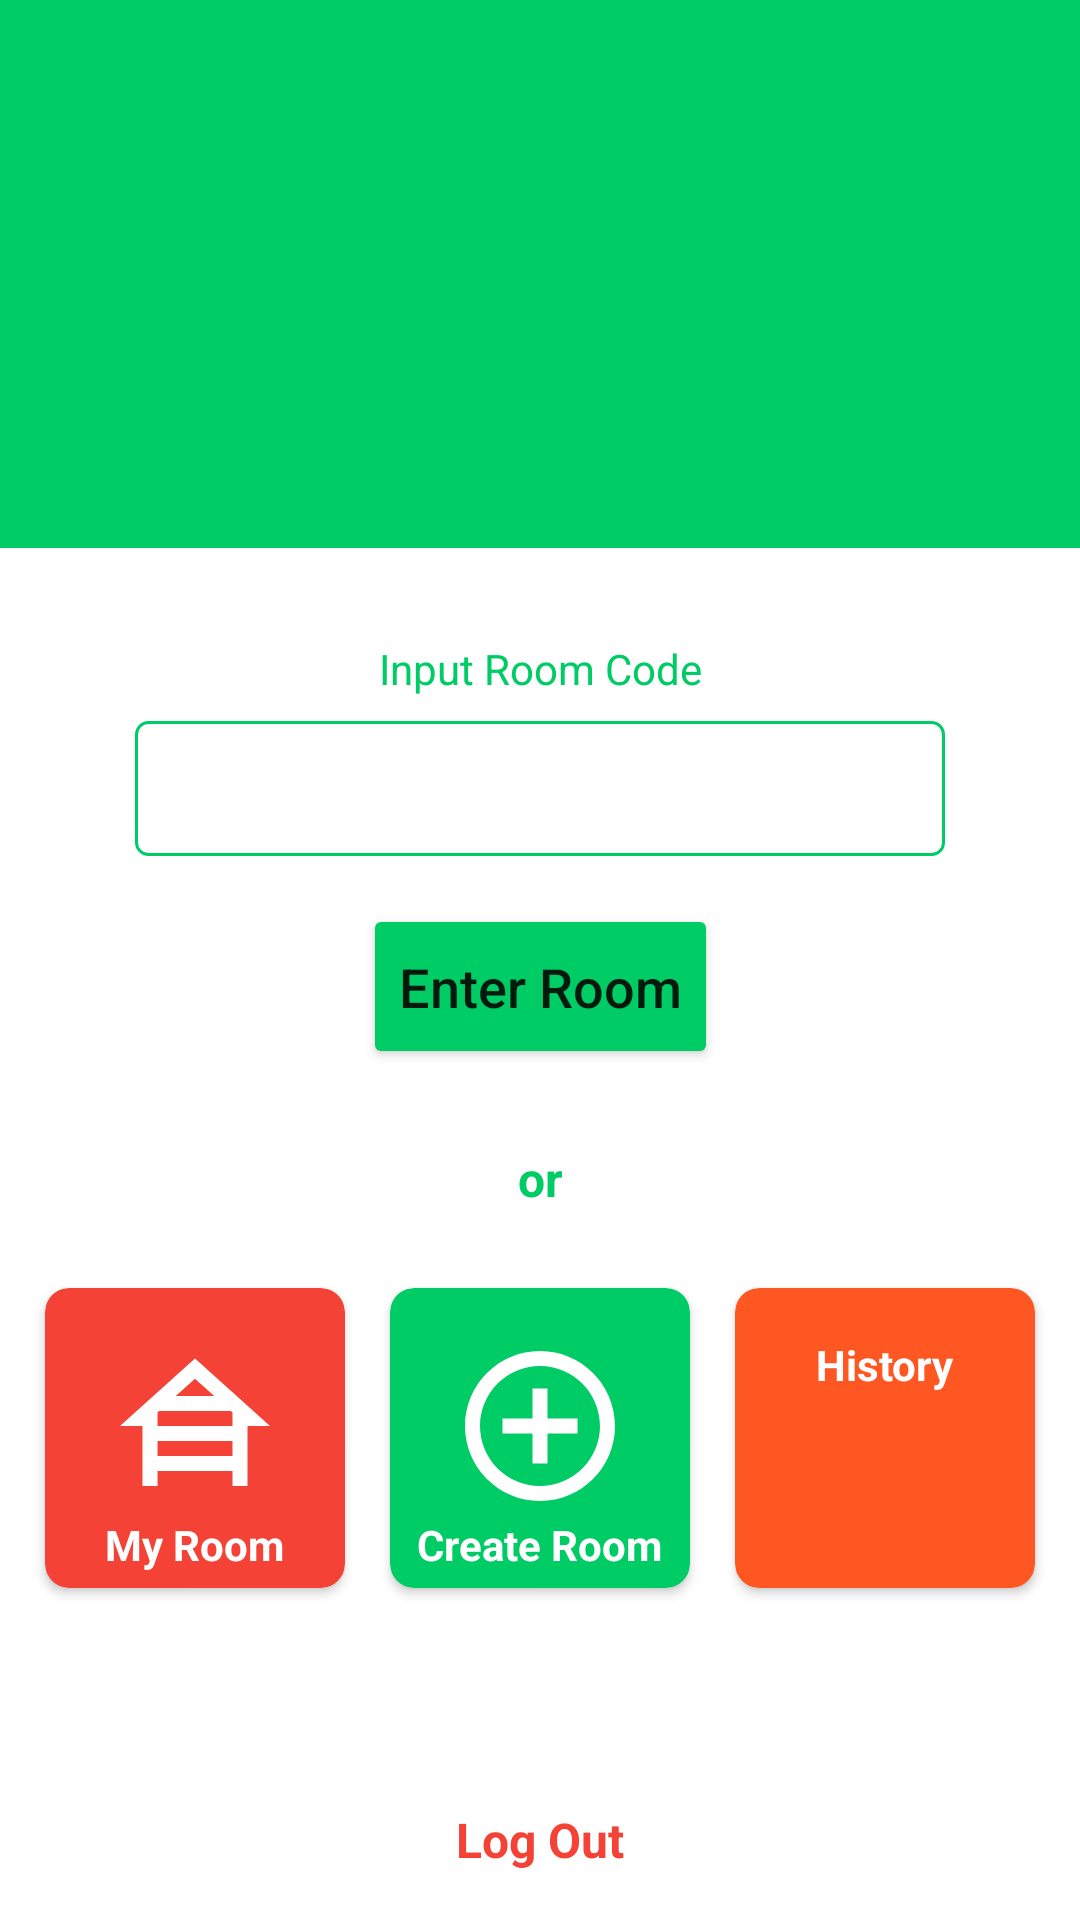

Screen size 1080 × 1920. Icon name, then its box in pixels as box=[x1, y1, x2, y2]:
add circle: box=[465, 1351, 615, 1501]
house: box=[120, 1358, 270, 1486]
